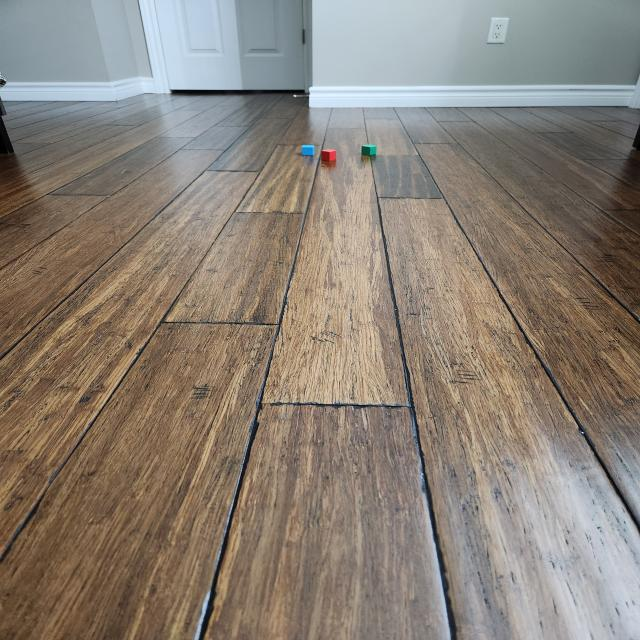bluecube: (301, 144, 315, 157)
green cube: (361, 144, 378, 156)
red cube: (321, 148, 337, 162)
